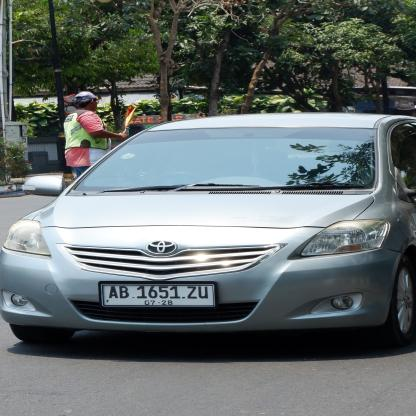Plat-Nomor: (97, 278, 220, 312)
